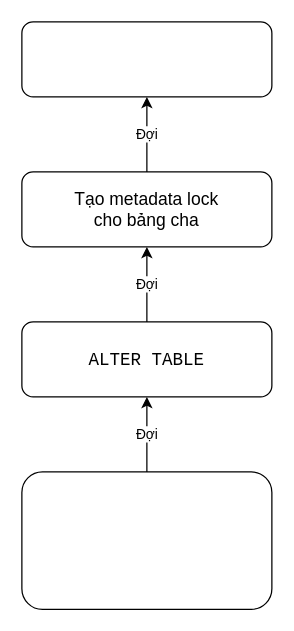
The diagram is 294 pixels wide and 631 high, and some of its shapes have lost their labels. The shapes that lost their labels are listed below. From the top down, each one's box as (x1, y1, x2, y2) in pixels, then its label:
(21, 21, 272, 97): Transaction cần được COMMIT / ROLLBACK / KILL
(21, 471, 272, 609): Query bảng cha cần ALTER TABLE và các bảng con có foreign key tới bảng cha
